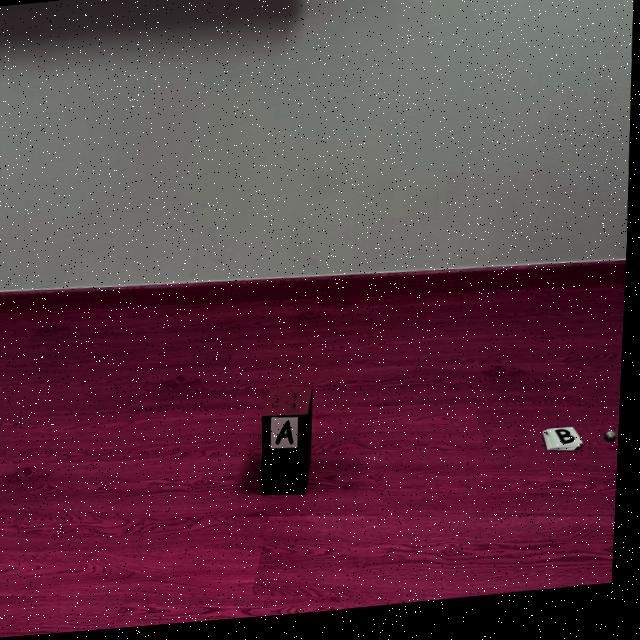A: (279, 426, 298, 450)
B: (560, 438, 578, 454)
